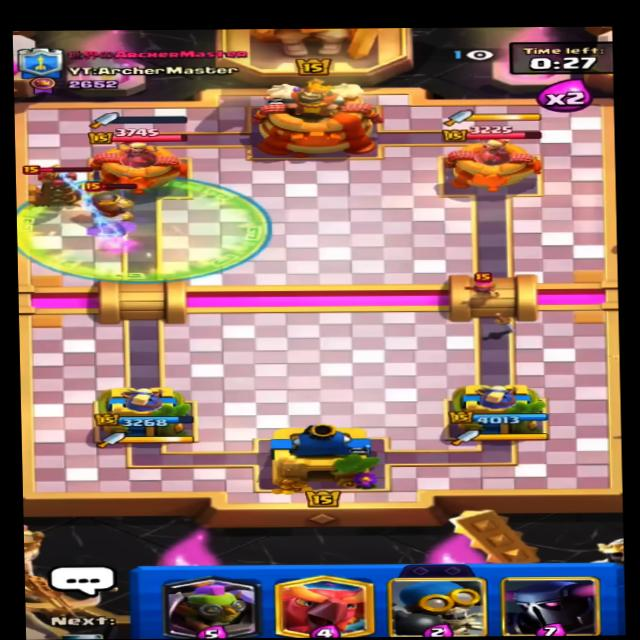archer: (465, 273, 505, 297)
knight: (81, 187, 140, 221)
tesla: (17, 161, 101, 216)
